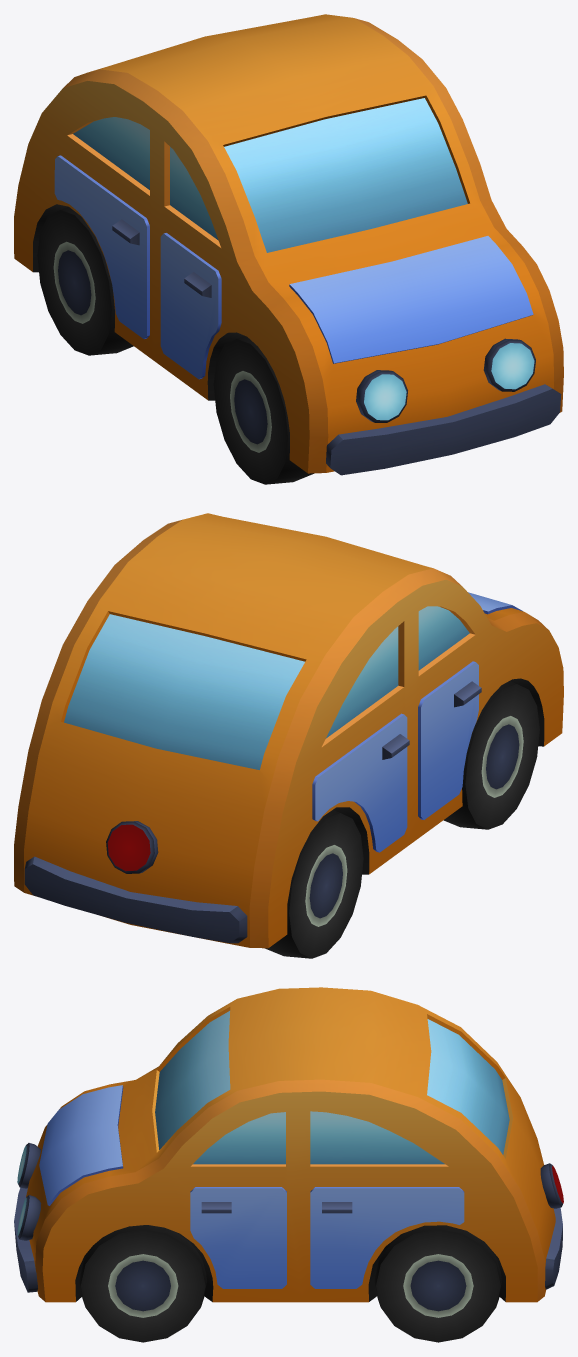
File: Car_04.fbx
3 renders of one model, top to bottom at view 1: azimuth 30°, elevation 25°; view 2: azimuth 150°, elevation 25°; view 3: azimuth 270°, elevation 25°, orthographic. The views are drawn at different scales.
Parts seen in each view (by area): view 1: Car_04; view 2: Car_04; view 3: Car_04.
Boxes of the visible parts, x1,y1,x2,y2 form: Car_04: (14, 14, 563, 484); Car_04: (14, 513, 563, 958); Car_04: (14, 987, 563, 1342).
Bounding box in the file's own units: 152 × 165 × 310.
5 materials, 5 textured.
